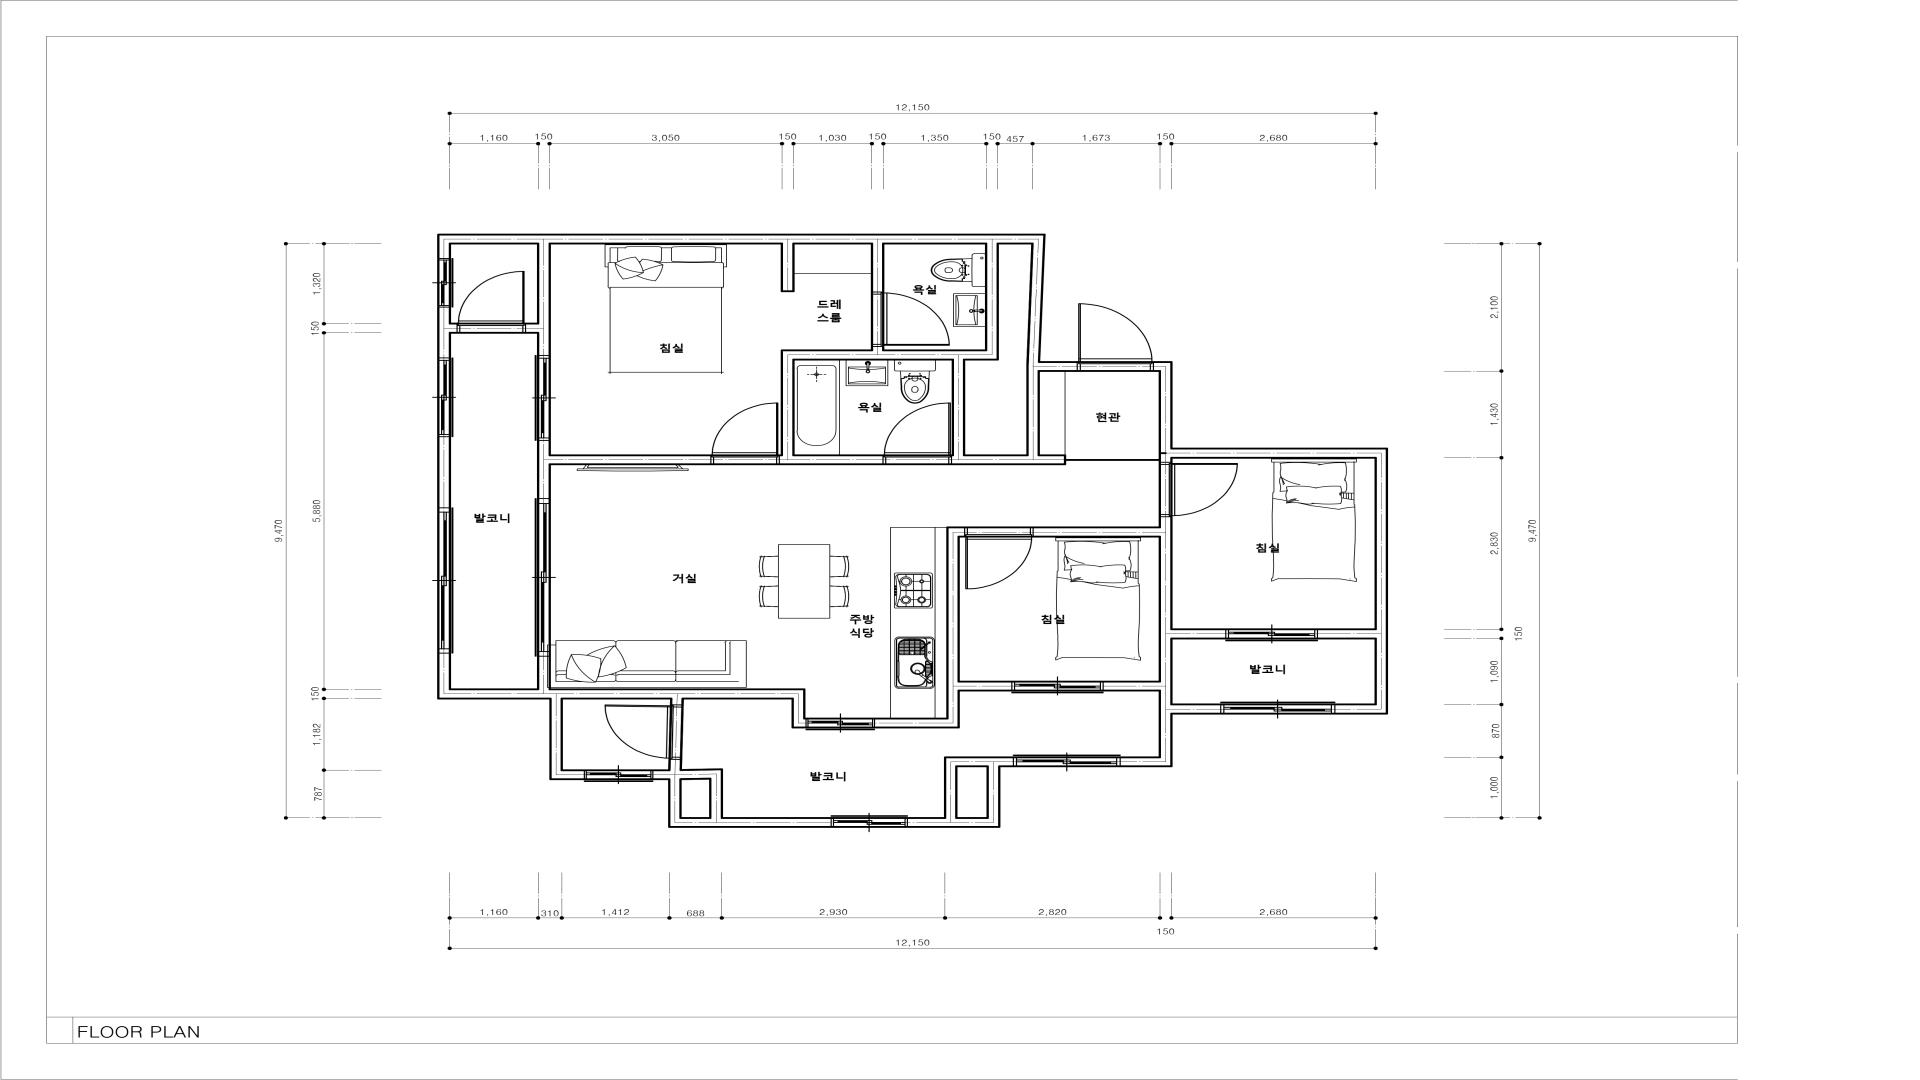background: (1, 1, 1920, 1080)
door: (1078, 303, 1153, 372), (457, 271, 527, 334), (883, 401, 953, 464), (712, 401, 782, 463), (965, 526, 1033, 589), (604, 705, 683, 759), (1159, 462, 1238, 516), (871, 292, 949, 346)
wall: (451, 234, 1031, 245), (1374, 448, 1388, 704), (551, 689, 791, 700), (946, 538, 960, 718), (1158, 517, 1173, 681), (1027, 234, 1046, 361), (781, 350, 985, 361), (1172, 448, 1375, 459), (668, 817, 831, 828), (985, 245, 999, 361), (551, 455, 710, 465), (537, 244, 551, 355), (1033, 526, 1159, 537), (781, 361, 795, 455), (1159, 372, 1173, 462), (952, 360, 965, 455), (437, 688, 537, 700), (952, 455, 1066, 465), (780, 454, 883, 465), (1027, 372, 1040, 455), (549, 700, 563, 770), (437, 437, 451, 507), (875, 718, 960, 729), (1159, 691, 1173, 757), (908, 817, 987, 828), (944, 756, 1013, 768), (668, 760, 682, 817), (537, 441, 551, 498), (987, 768, 1000, 828), (1104, 681, 1173, 692), (944, 767, 958, 817), (437, 308, 451, 358), (709, 768, 723, 817), (781, 244, 795, 292), (537, 656, 552, 700), (1172, 628, 1225, 640), (1335, 703, 1388, 715), (1318, 628, 1375, 639), (871, 245, 884, 292), (791, 689, 806, 729), (1172, 703, 1220, 715), (960, 681, 1012, 692), (1026, 361, 1077, 372), (1121, 757, 1172, 767), (437, 654, 451, 688), (549, 770, 584, 780), (682, 768, 710, 780), (437, 234, 451, 258), (1154, 361, 1173, 372), (946, 527, 964, 538), (654, 769, 668, 780), (526, 323, 537, 334), (670, 699, 684, 705), (451, 323, 457, 334), (871, 346, 885, 350)
window: (535, 498, 551, 656), (438, 507, 454, 653), (1220, 702, 1335, 714), (535, 355, 551, 441), (1013, 755, 1120, 767), (437, 358, 453, 437), (1225, 629, 1317, 642), (1012, 681, 1103, 694), (830, 815, 908, 828), (584, 769, 653, 782), (437, 258, 454, 307), (806, 718, 874, 730)
